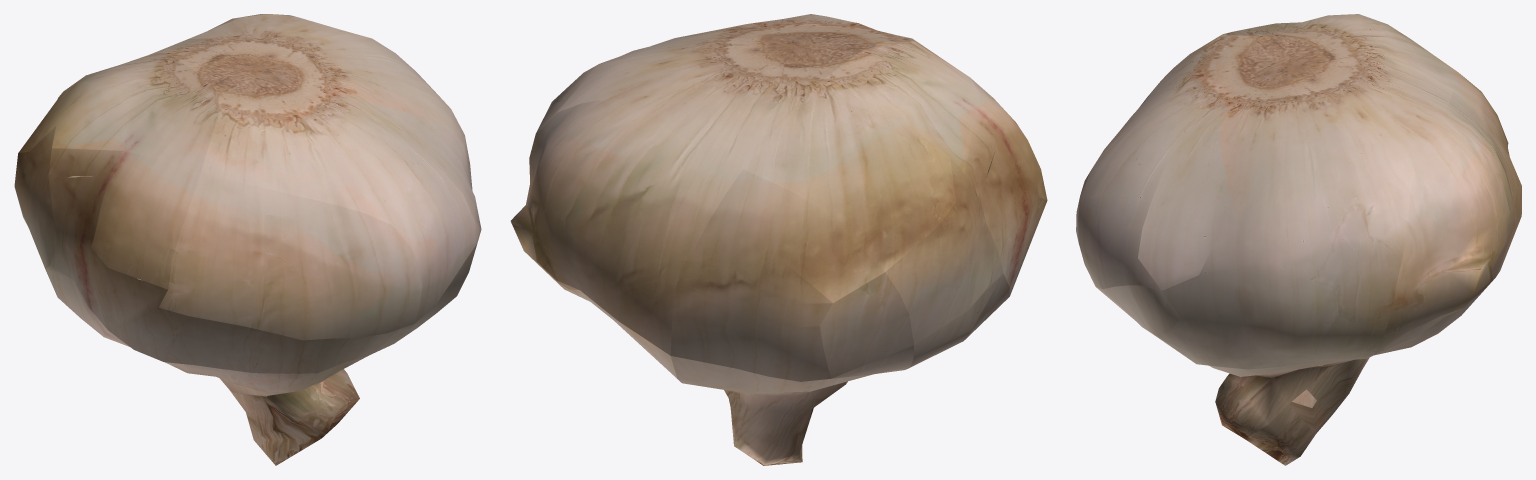
The model's file is garlic.fbx.
3 views of the same model, side by side, from view 1: azimuth 30°, elevation 25°; view 2: azimuth 150°, elevation 25°; view 3: azimuth 270°, elevation 25° (orthographic). The views are drawn at different scales.
Parts seen in each view (by area): view 1: Mesh; view 2: Mesh; view 3: Mesh.
Part boxes in pixels (x1=…): Mesh: x1=14, y1=14, x2=481, y2=465; Mesh: x1=510, y1=14, x2=1047, y2=465; Mesh: x1=1076, y1=14, x2=1521, y2=465.
Bounding box in the file's own units: 1.67 × 1.59 × 1.66.
1 material, 1 textured.
